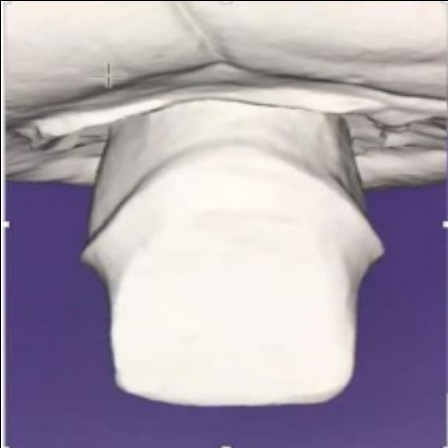coin_1: (359, 281, 379, 301)
coin_2: (355, 355, 375, 375)
coin_3: (102, 277, 122, 297)
coin_4: (112, 359, 132, 379)
